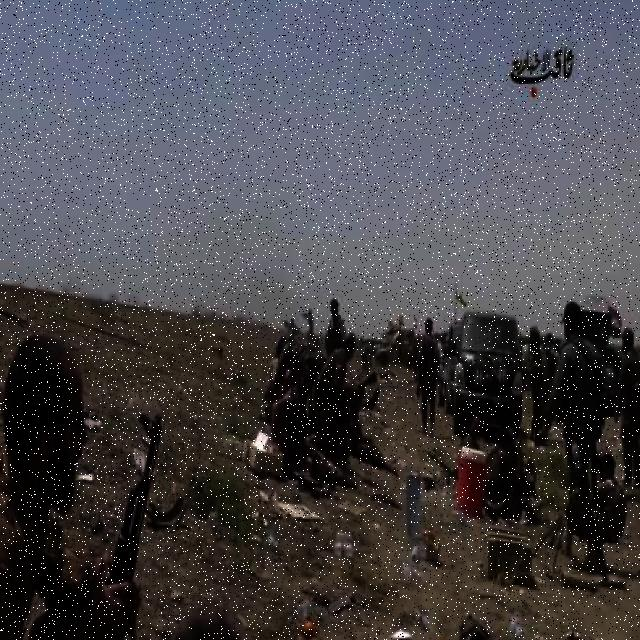Rifle: (95, 412, 161, 640)
